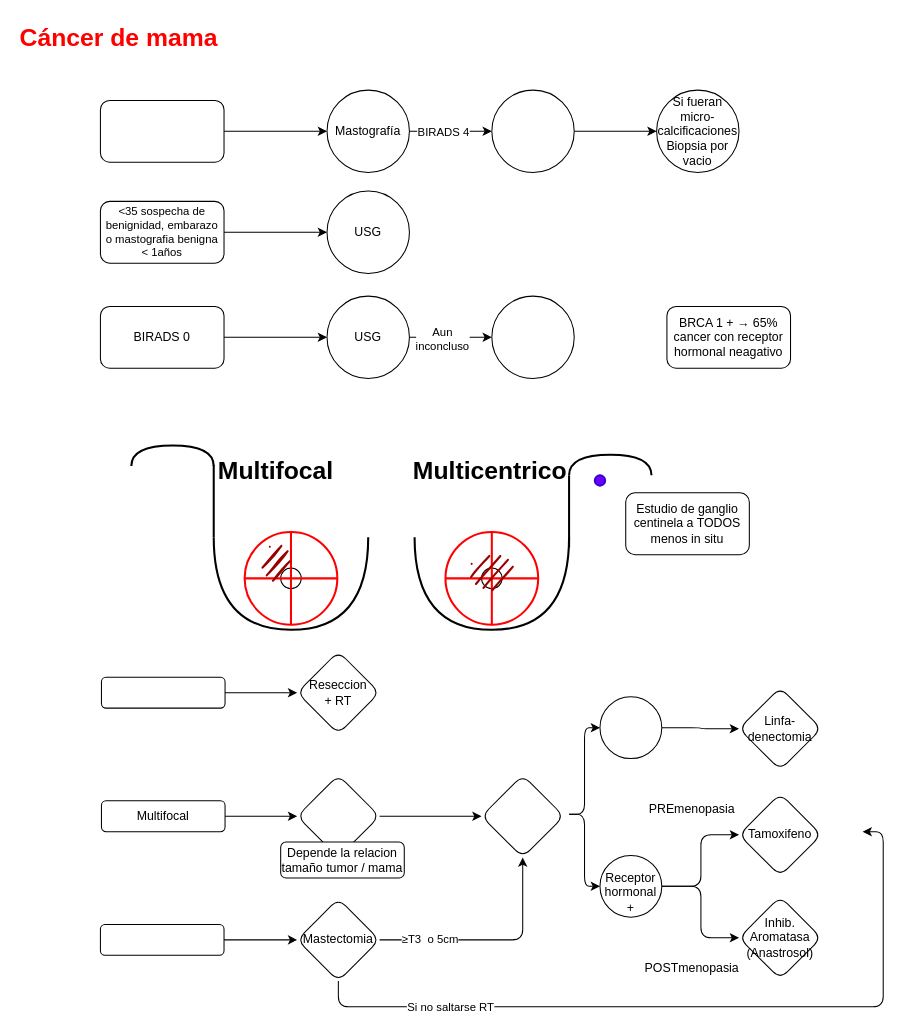
Image size: 909x1033. Some labels were removed from this diagram. Each missing label, with the centre of its shape:
">35 con sospecha de malignidad" goes at (161,130).
"Biopsia aguja gruesa" goes at (532,131).
"Carcinoma in Situ" goes at (162,692).
"Cx Conservadora" goes at (338,815).
"Ganglio centinela +" goes at (630,727).
"Multicentrica" goes at (161,939).
"Radioterapia" goes at (522,815).
"RM" goes at (532,337).
